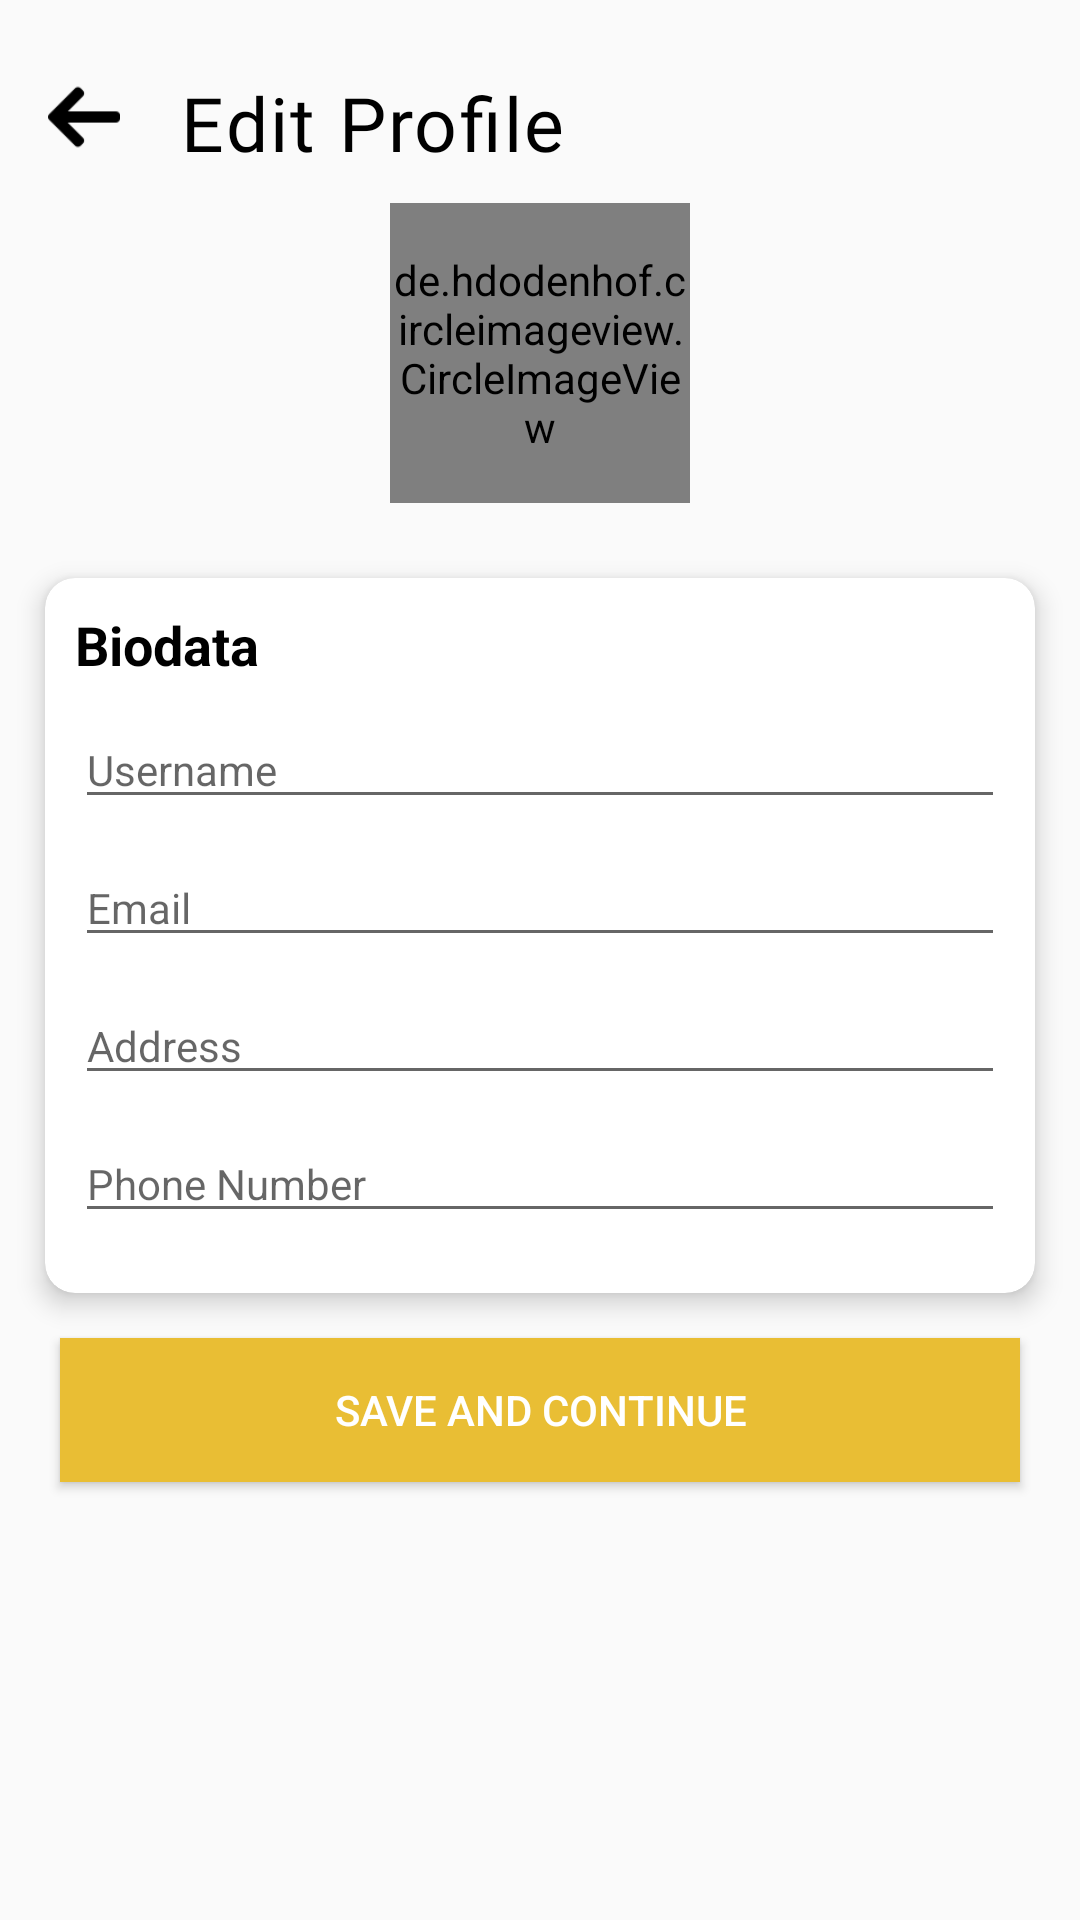

Icons on this 1080x1920 Android screen, each with the point to tap as [x,y]:
left arrow: [84,117]
